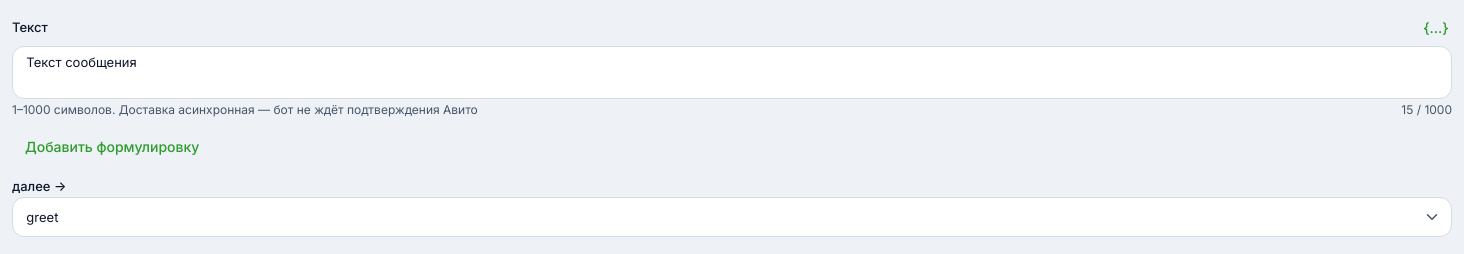
Scenario: Подстановка переменных в текстовые поля (02 §5.1) › кнопка {…} вставляет плейсхолдер в текст шага
Replace the text in the text box named "Текст" with "Здравствуйте, " at (732, 72), box [12,46,1452,99]
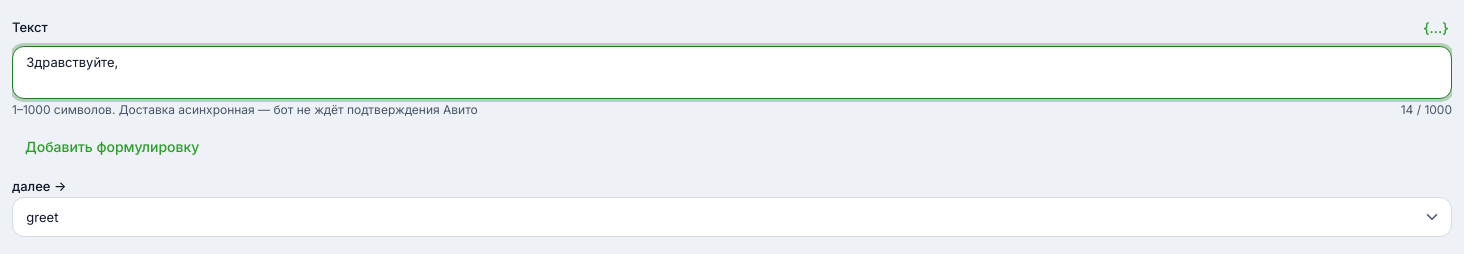
Click the button named "Вставить переменную: Текст" at (1436, 28), box [1420,12,1452,44]
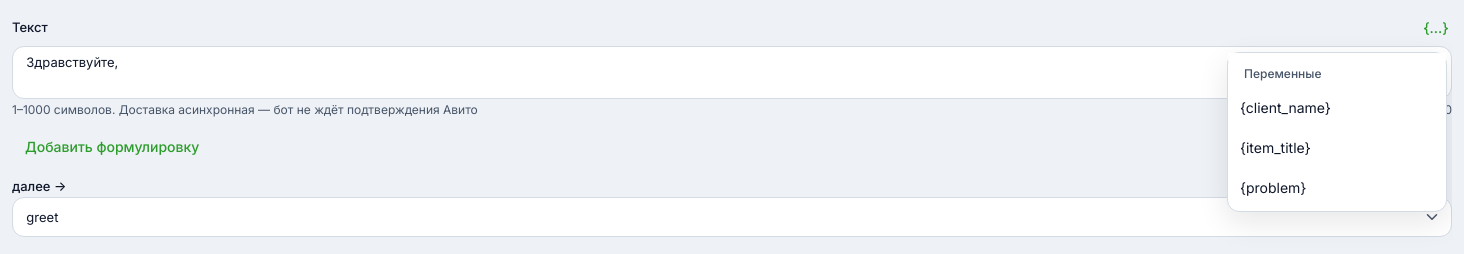
Click the menu item "{client_name}" at (1337, 107), box [1232,87,1442,127]
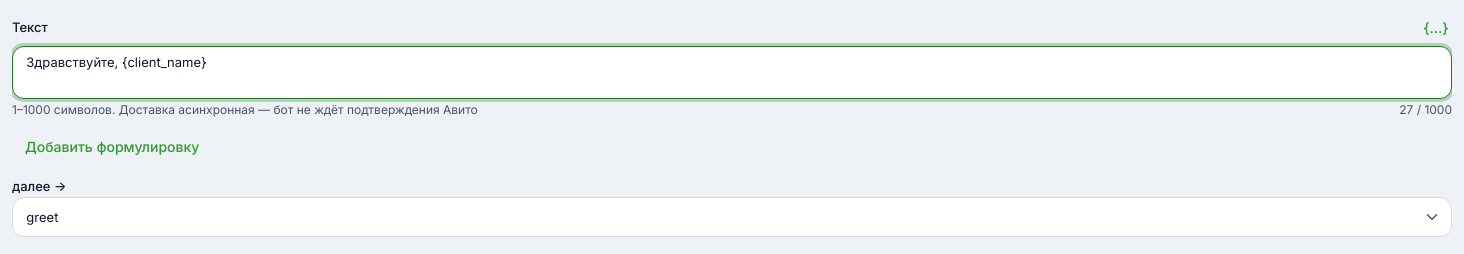
Now the text box named "Текст" holds "Здравствуйте, {client_name}", box [12,46,1452,99]
